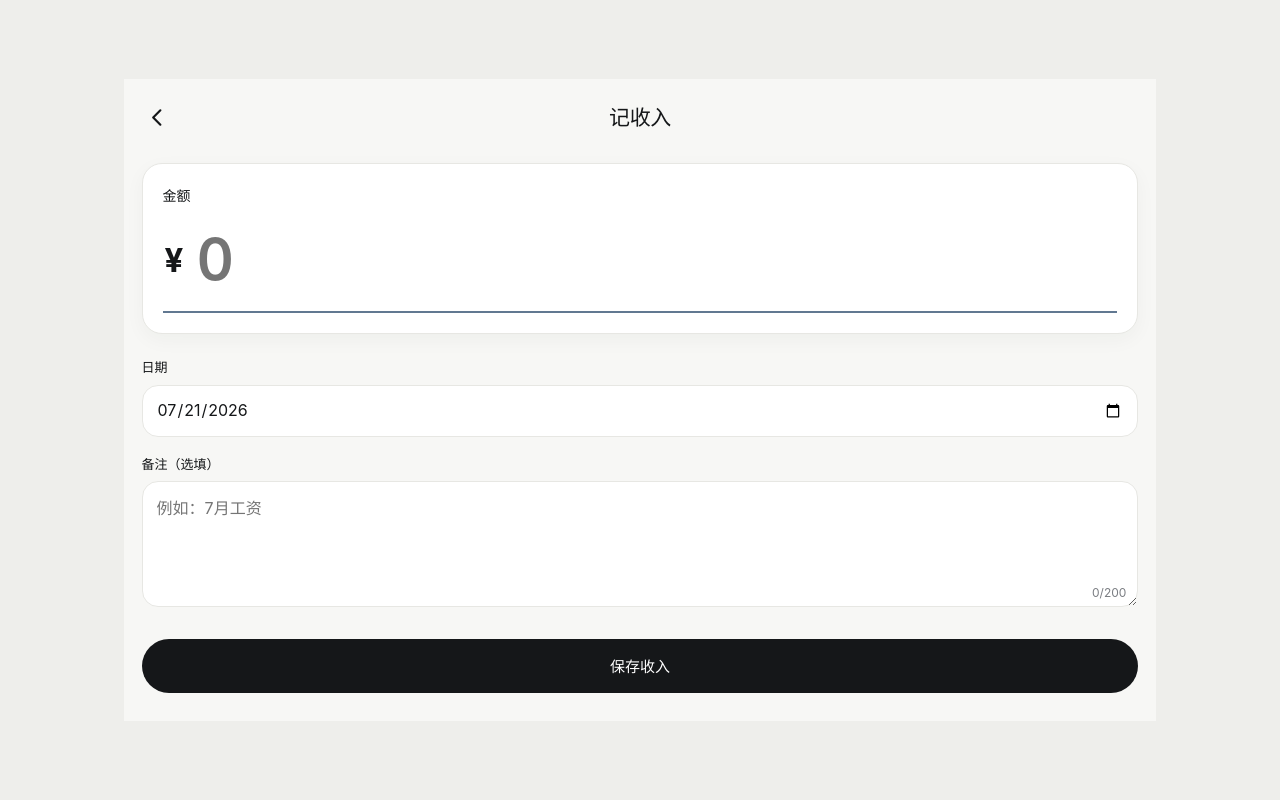
IncomeFormPage mobile success sheet › releases input focus before opening the full post-save actions
Type "1000" into the field labelled "金额" at (655, 260), box [194,218,1115,301]
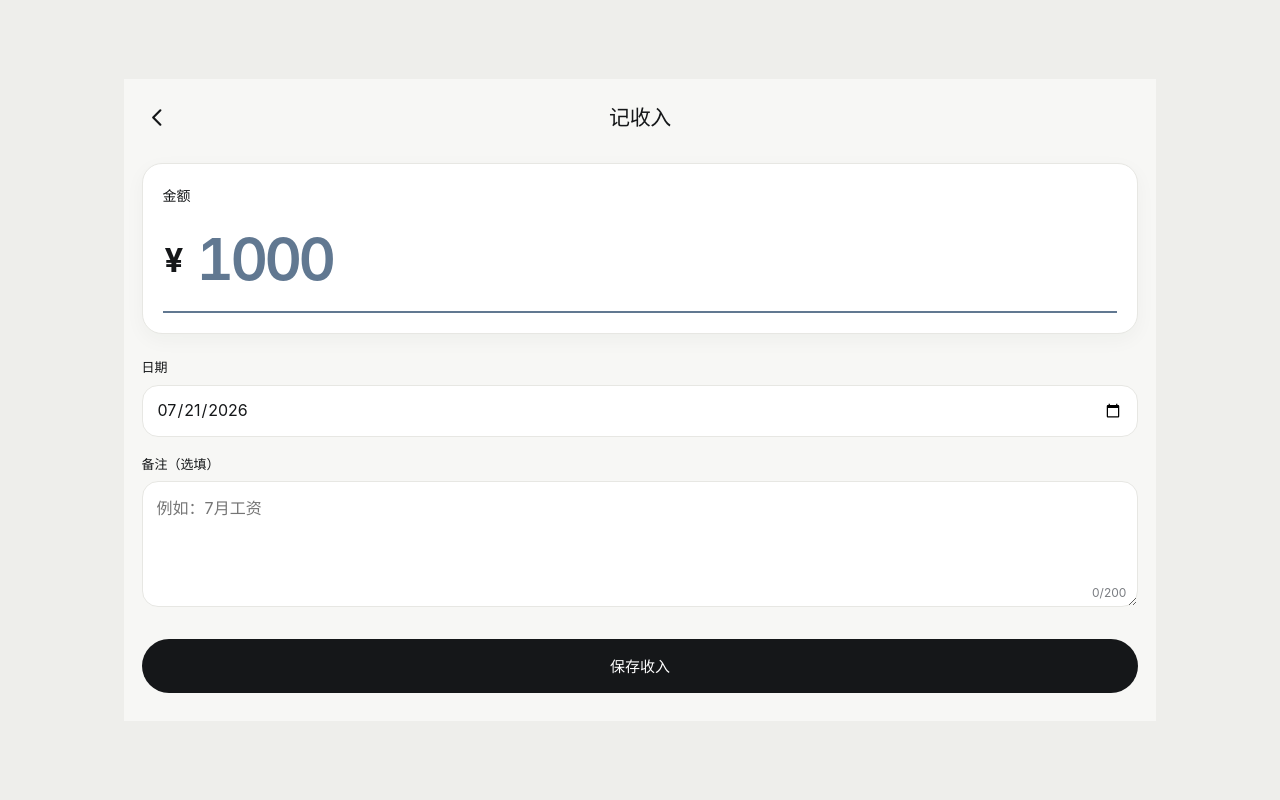
Click the button "保存收入" at (640, 666), box [142,639,1138,693]
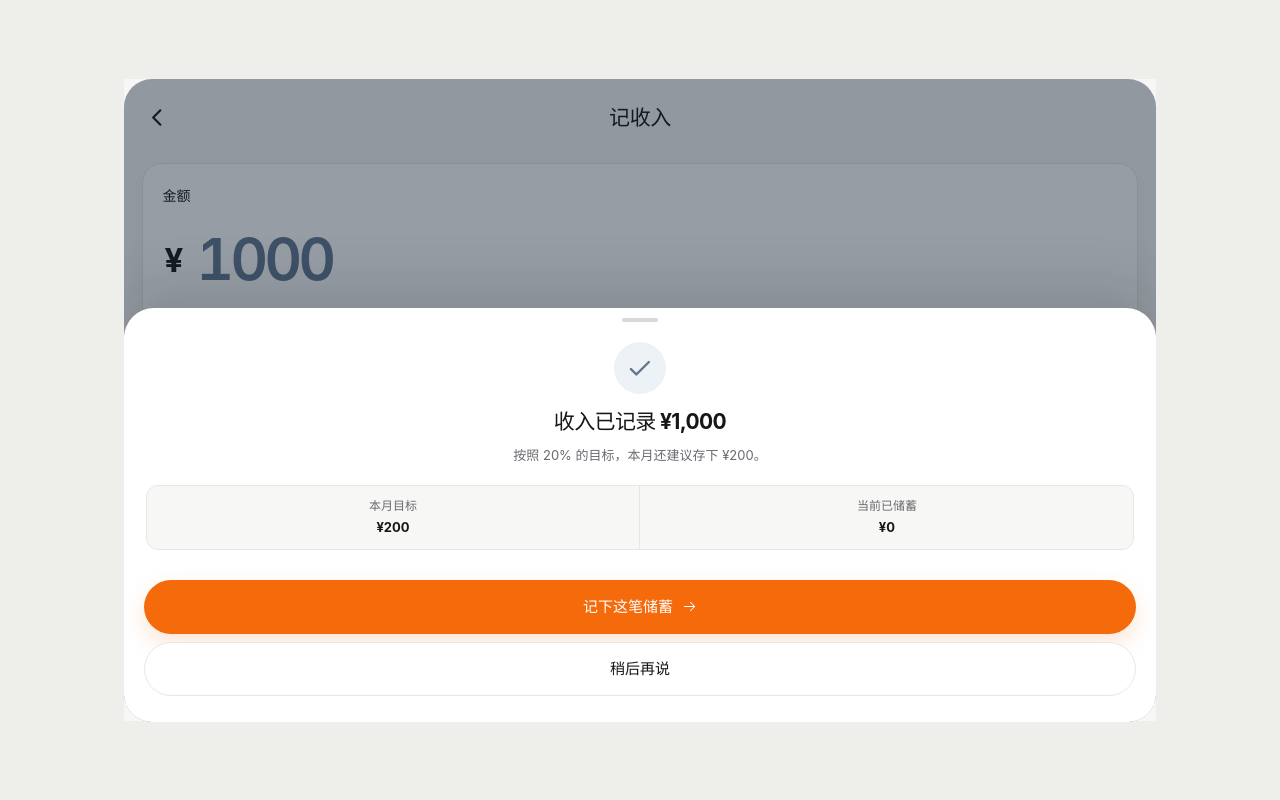
Result: the dialog is shown at [124,308,1156,722]
